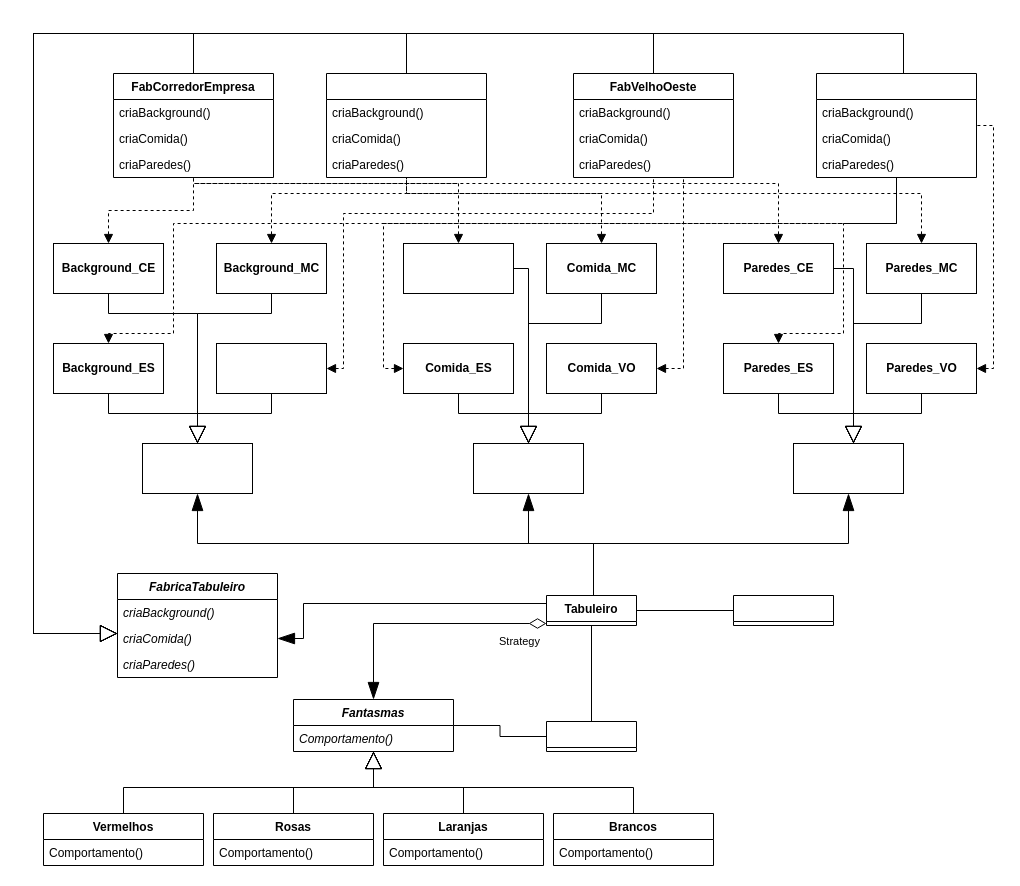
Image size: 1020x886. Some labels were removed from this diagram. The shapes that lost their labels are listed below. From the top down, each one's box as (x1, y1, x2, y2) in pixels, then its label:
(326, 72, 486, 178): FabMercadoCovid
(816, 72, 976, 178): FabEspacoSideral
(402, 242, 514, 294): Comida_CE
(216, 342, 326, 394): Background_VO
(142, 442, 252, 494): Background
(472, 442, 584, 494): Comida
(792, 442, 904, 494): Paredes
(732, 594, 834, 626): Pontuação
(546, 720, 636, 752): Pacman
